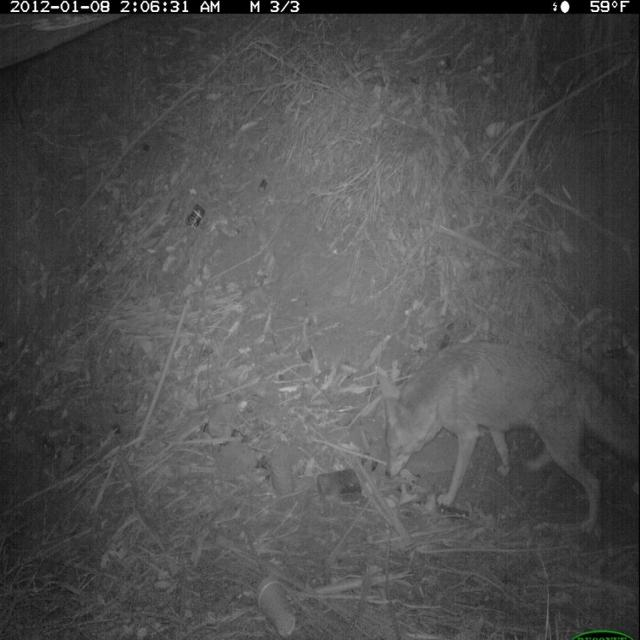coyote: (371, 332, 640, 540)
